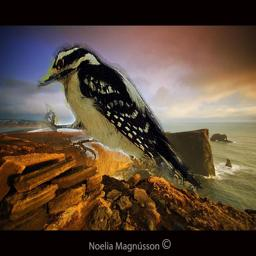Woodpecker: (37, 39, 204, 194)
